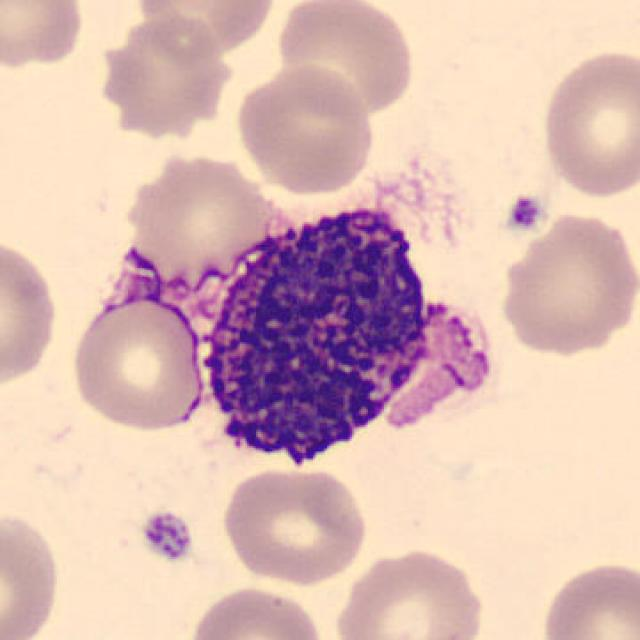Basophil: (183, 185, 507, 483)
Platelets: (137, 508, 197, 564), (503, 194, 546, 236)
RBC: (129, 148, 284, 294), (496, 208, 638, 358), (231, 60, 379, 197), (66, 292, 208, 433), (217, 464, 373, 589), (90, 16, 234, 140), (274, 0, 418, 120), (537, 44, 638, 201), (332, 545, 490, 640), (0, 231, 62, 393), (130, 0, 281, 60), (0, 504, 66, 640), (535, 555, 638, 640), (185, 582, 327, 640), (0, 0, 87, 71)
